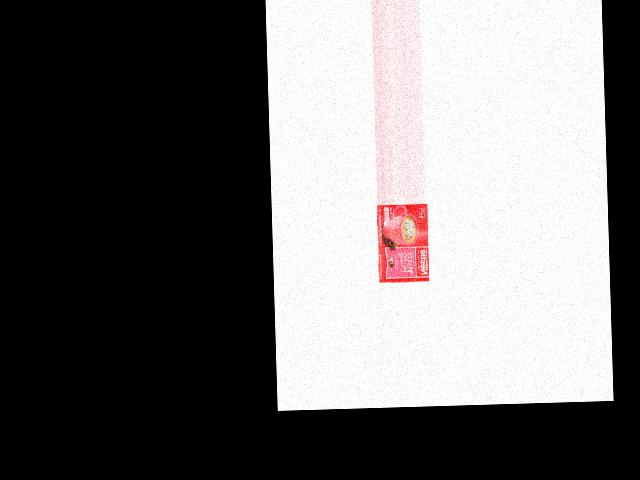chocolate: (373, 203, 427, 281)
